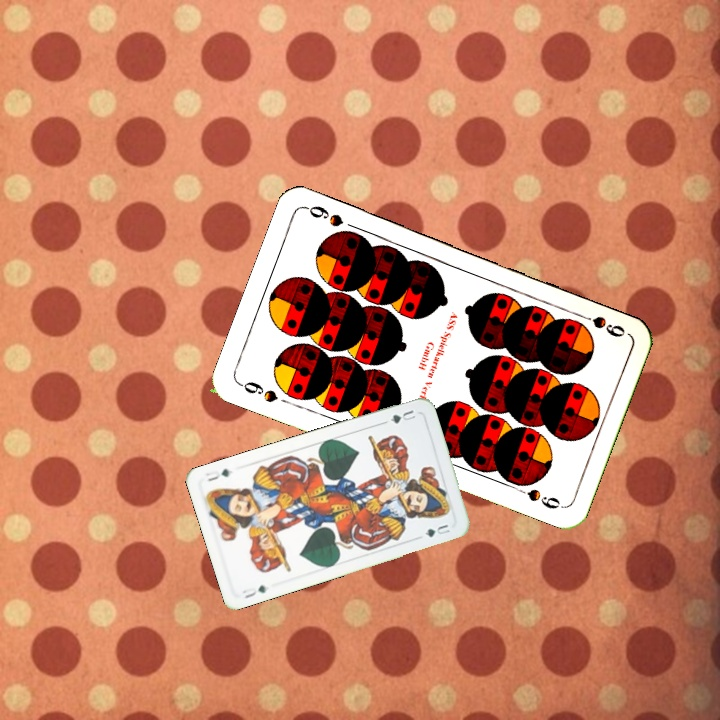GU: (386, 406, 418, 426), (238, 581, 269, 601)
S9: (572, 309, 628, 340), (235, 377, 281, 405)
